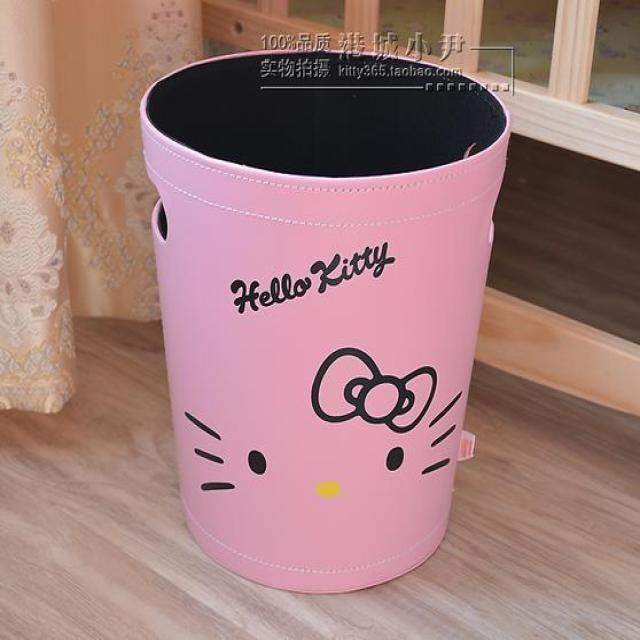dustbin: (141, 44, 509, 599)
